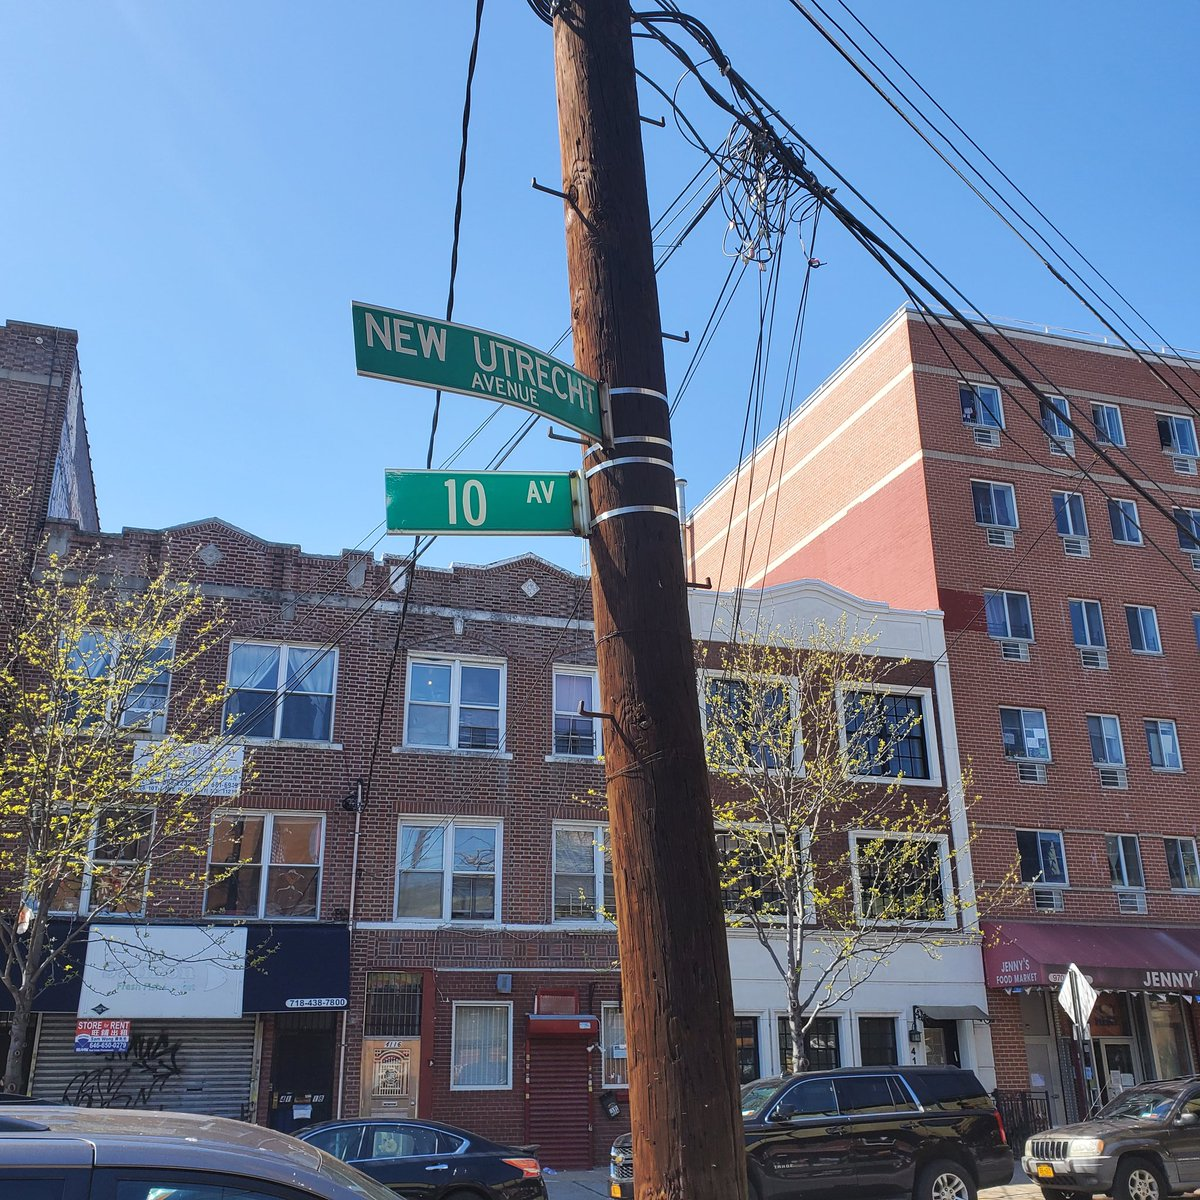building: (11, 604, 973, 1200), (785, 336, 1200, 1173)
car: (599, 1051, 1025, 1200), (1023, 1060, 1200, 1200)
sky: (1, 1, 651, 484)
